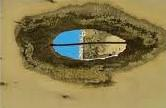Exposed reinforcement: (49, 40, 129, 47)
Spalling: (13, 1, 166, 89)
